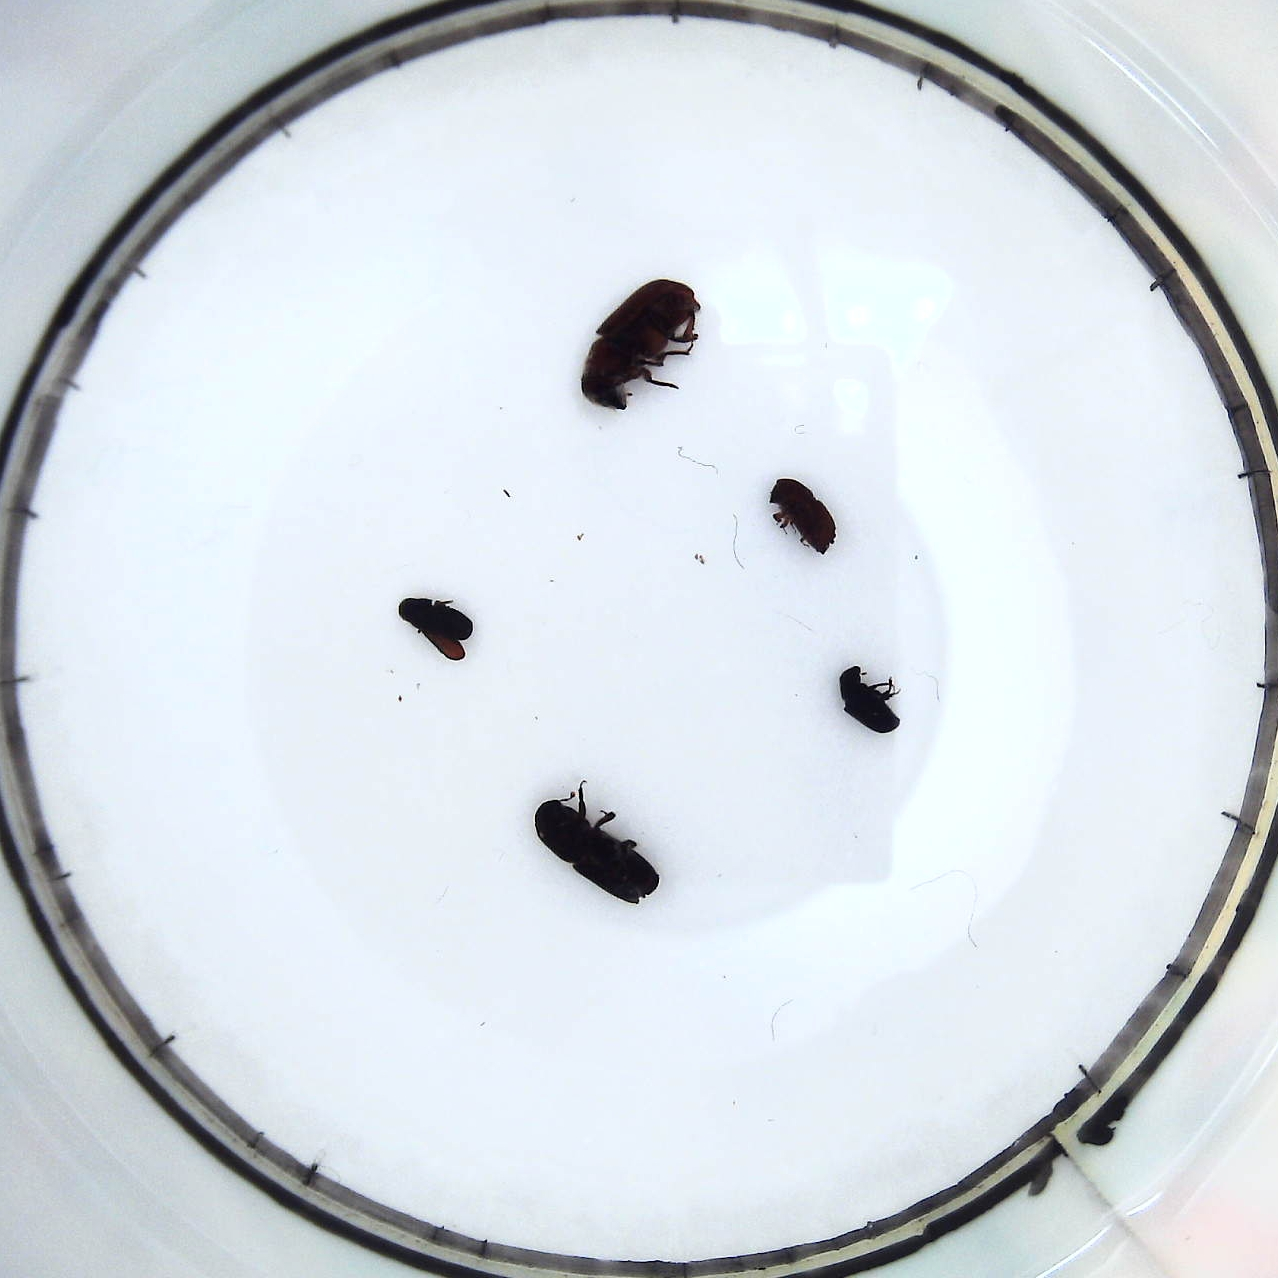Boerner: (525, 781, 667, 913)
Leconte: (577, 269, 709, 420)
armandi: (392, 595, 475, 667)
coleoptera: (831, 659, 901, 737)
linnaeus: (767, 472, 843, 559)
